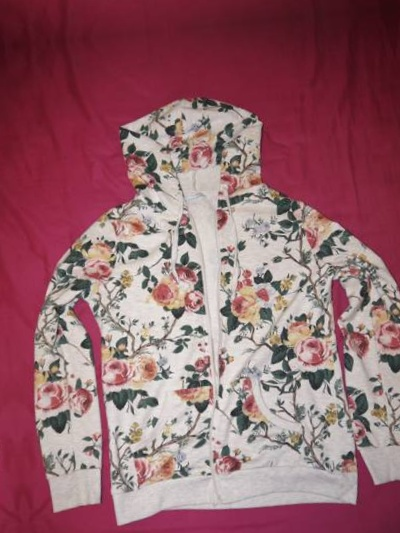Hoodie: (0, 67, 400, 533), (0, 107, 11, 533)
